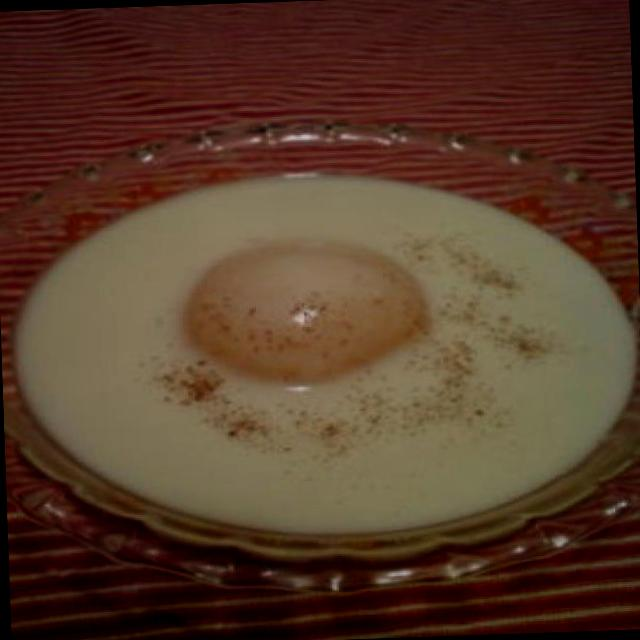Egg: (14, 152, 640, 549)
